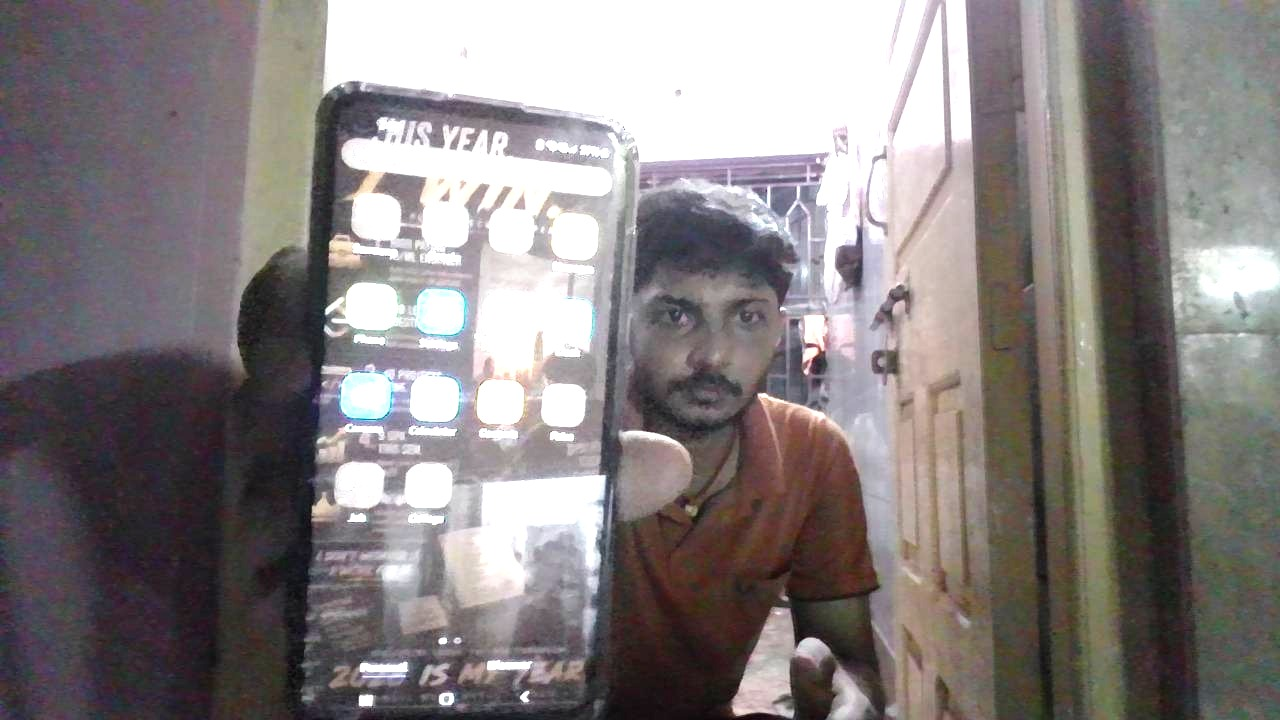red_box: (731, 416, 861, 564)
